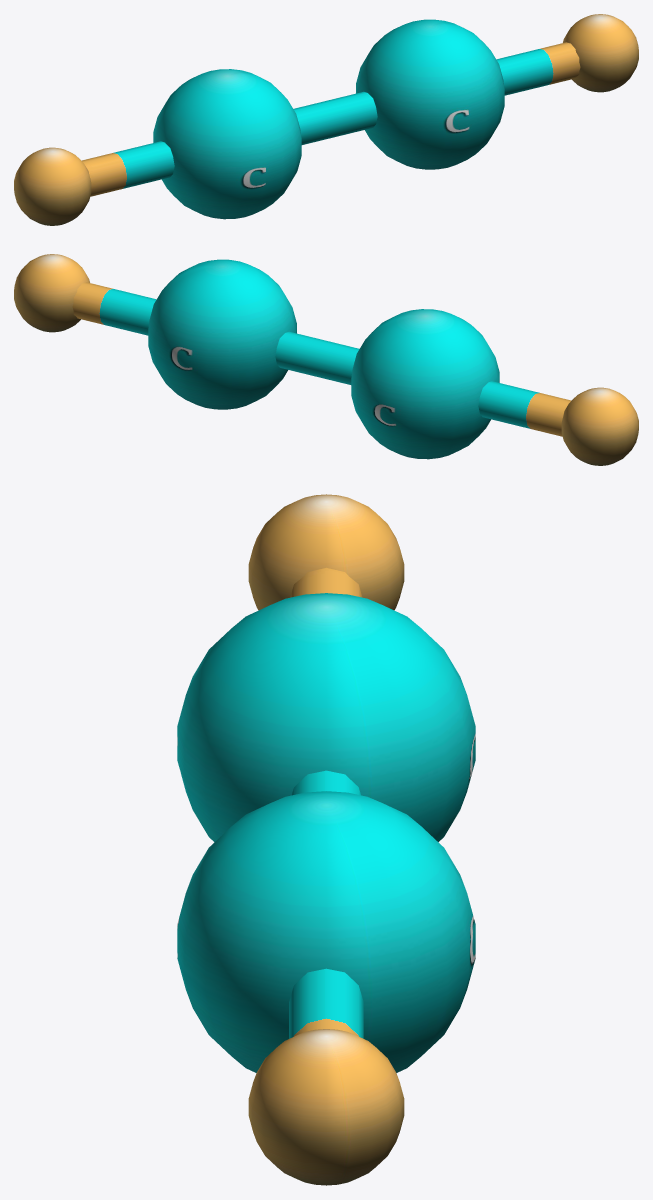
Rendered from Acetylene.dae.
3 views of the same model, one above another, from view 1: azimuth 30°, elevation 25°; view 2: azimuth 150°, elevation 25°; view 3: azimuth 270°, elevation 25° (orthographic). The views are drawn at different scales.
Visible parts, largest first — view 1: polySurface2; view 2: polySurface2; view 3: polySurface2.
Part boxes in pixels (bbox=[...]): polySurface2: bbox=[14, 14, 638, 225]; polySurface2: bbox=[14, 254, 638, 465]; polySurface2: bbox=[177, 494, 475, 1185].
Size of the model in its own units: 7.48 by 1.58 by 1.57.
Materials: 1 (1 with a texture image).
